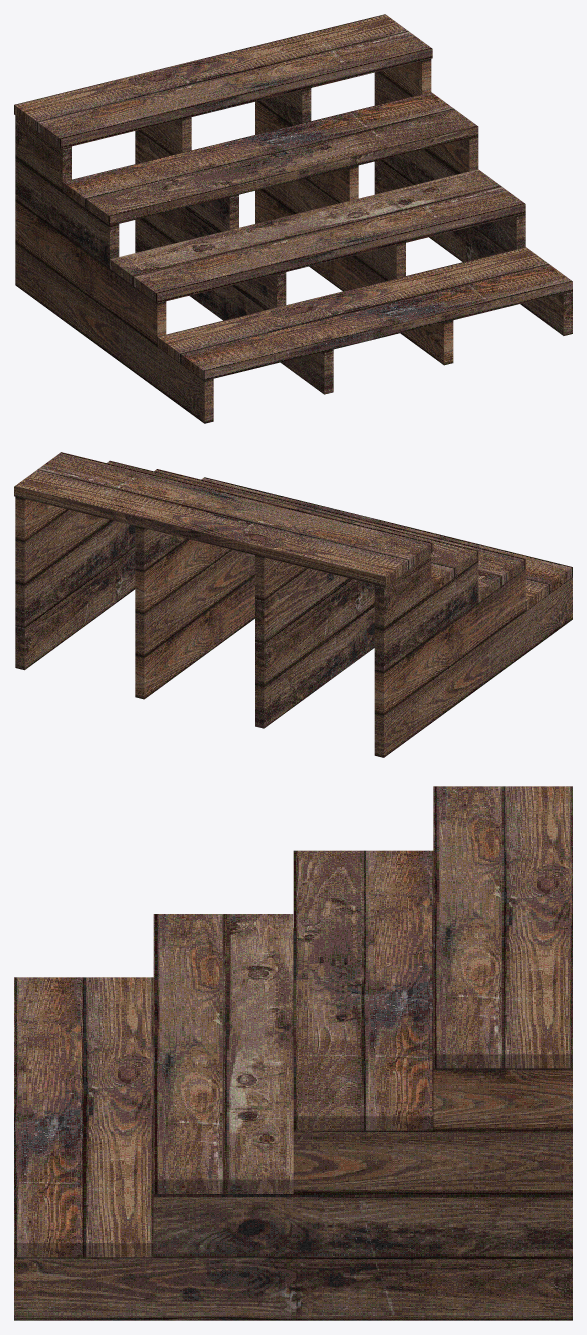
Rendered from porch-stairs.glb.
3 views of the same model, one above another, from view 1: azimuth 30°, elevation 25°; view 2: azimuth 150°, elevation 25°; view 3: azimuth 270°, elevation 25° (orthographic). The views are drawn at different scales.
Visible parts, largest first — view 1: porch-stairs.001; view 2: porch-stairs.001; view 3: porch-stairs.001.
Part boxes in pixels (x1,y1,x2,y2): porch-stairs.001: (14,14,572,423); porch-stairs.001: (14,452,572,757); porch-stairs.001: (14,786,572,1320).
Bounding box in the file's own units: 2.02 × 0.9389 × 1.78.
1 material, 1 textured.
